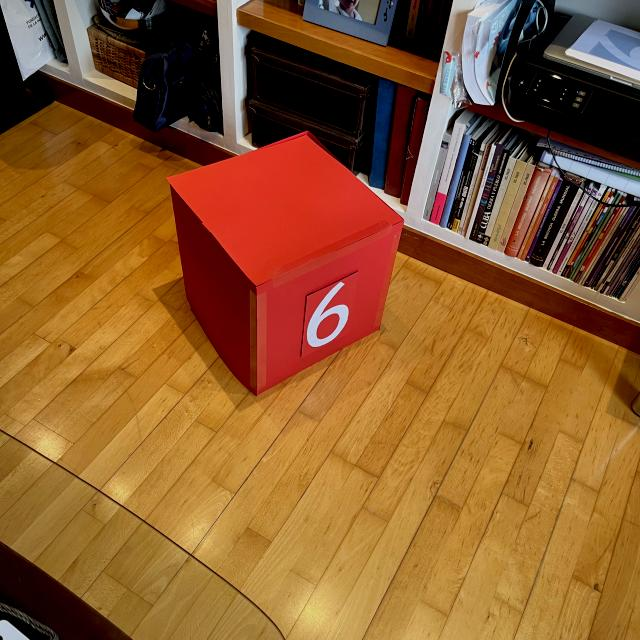box: (162, 129, 406, 397)
